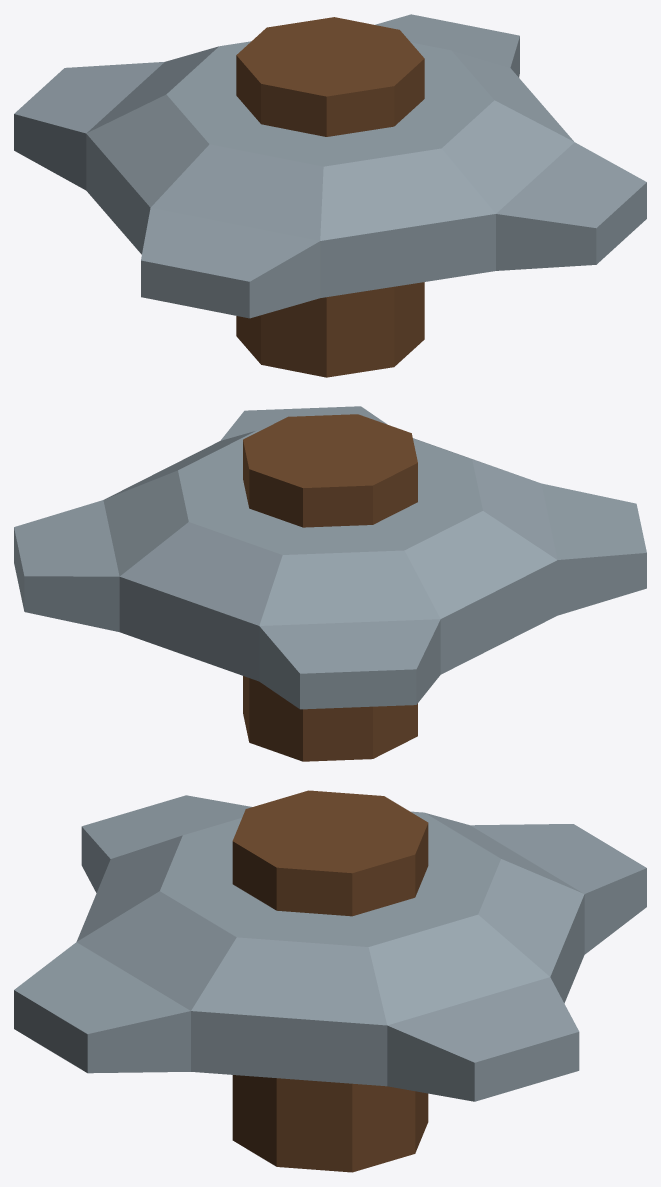
The model's file is mill_dynamic1.fbx.
3 renders of one model, top to bottom at view 1: azimuth 30°, elevation 25°; view 2: azimuth 150°, elevation 25°; view 3: azimuth 270°, elevation 25°, orthographic. The views are drawn at different scales.
Parts seen in each view (by area): view 1: mill_dynamic1; view 2: mill_dynamic1; view 3: mill_dynamic1.
Boxes of the visible parts, x1,y1,x2,y2 form: mill_dynamic1: [14, 14, 646, 377]; mill_dynamic1: [14, 406, 646, 761]; mill_dynamic1: [14, 790, 646, 1172].
Size of the model in its own units: 143 by 74.44 by 143.
